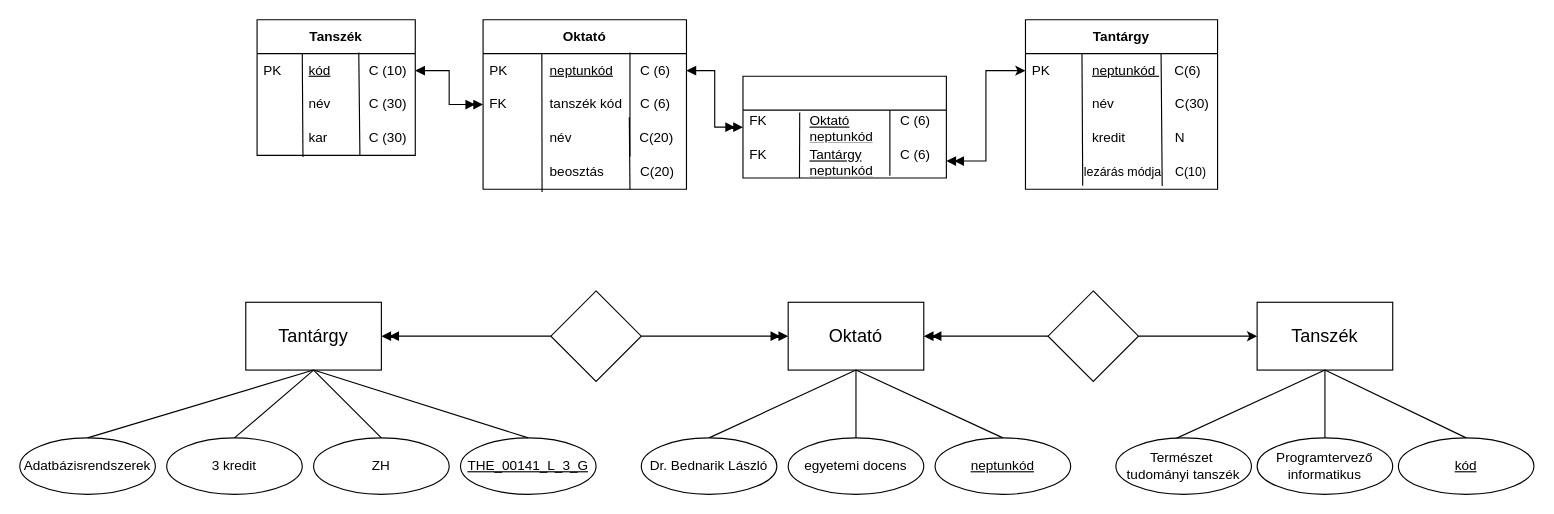
The diagram is 1554 pixels wide and 514 high, and some of its shapes have lost their labels. The shapes that lost their labels are listed below. From the top down, each one's box as (x1, y1, x2, y2) in pixels, then its label:
(742, 75, 946, 178): Oktató-Tamtárgy
(550, 290, 641, 381): O-T
(1047, 290, 1138, 381): T-O
